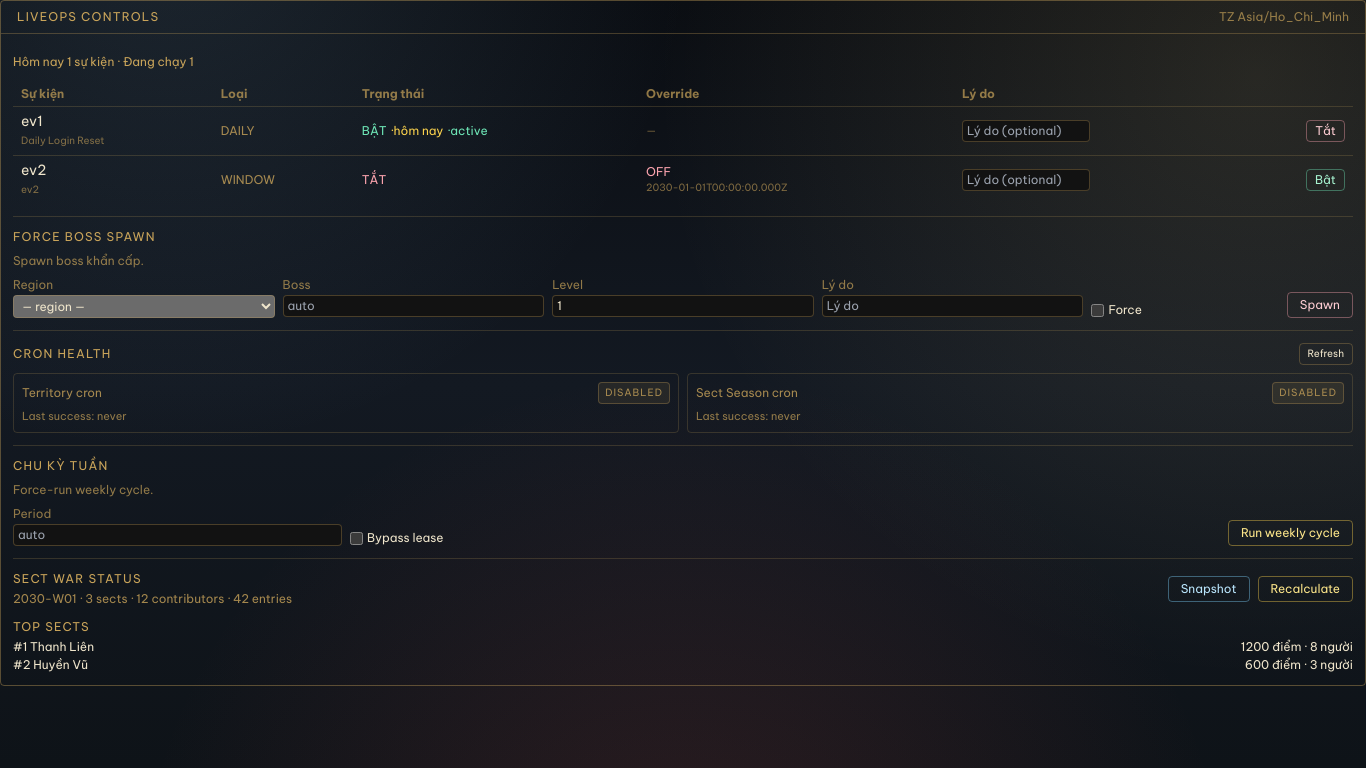
it: AdminLiveOpsPanel › snapshot button click: gọi adminSectWarSnapshot, refresh sectWar view
Click the button with test id "admin-liveops-snapshot".
click(1209, 589)  # box [1168,576,1250,602]
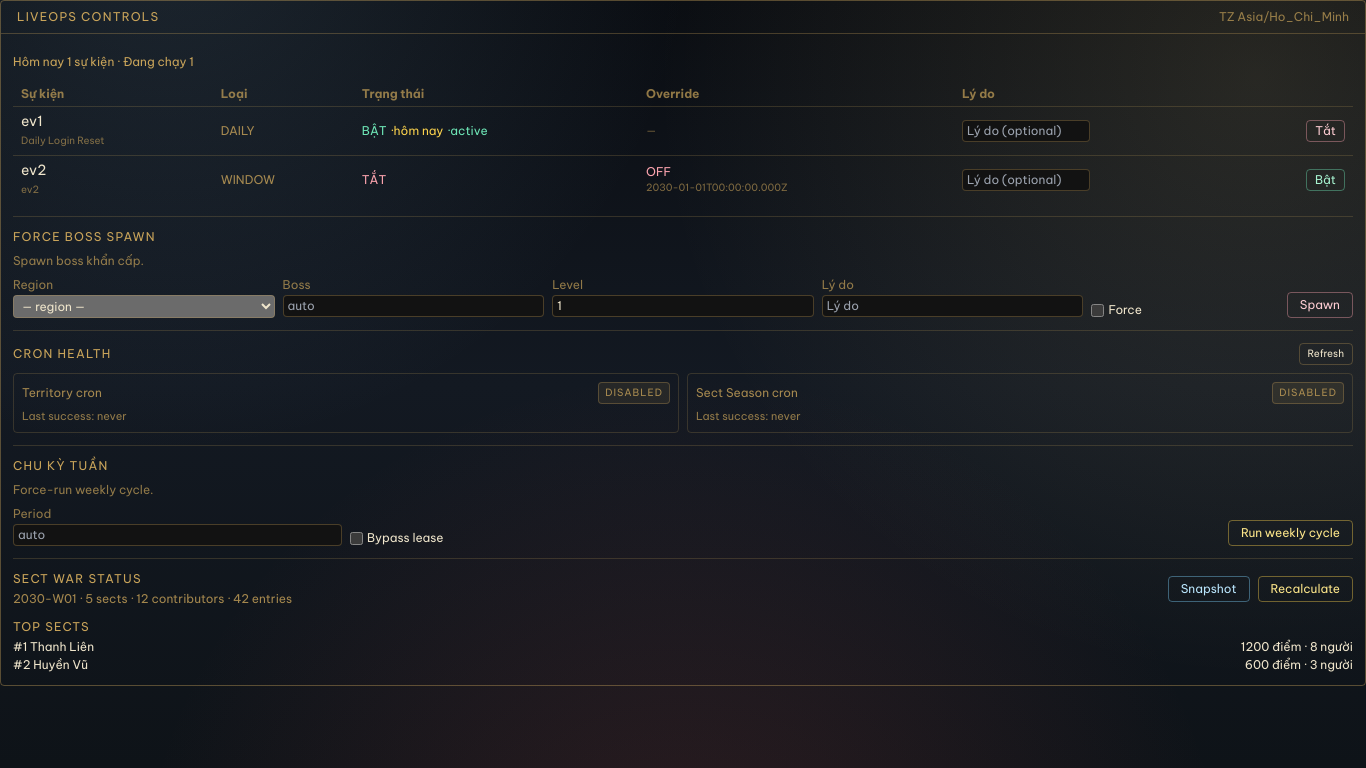
Expected: the text "5 sects" is shown, [13,591,292,606]
